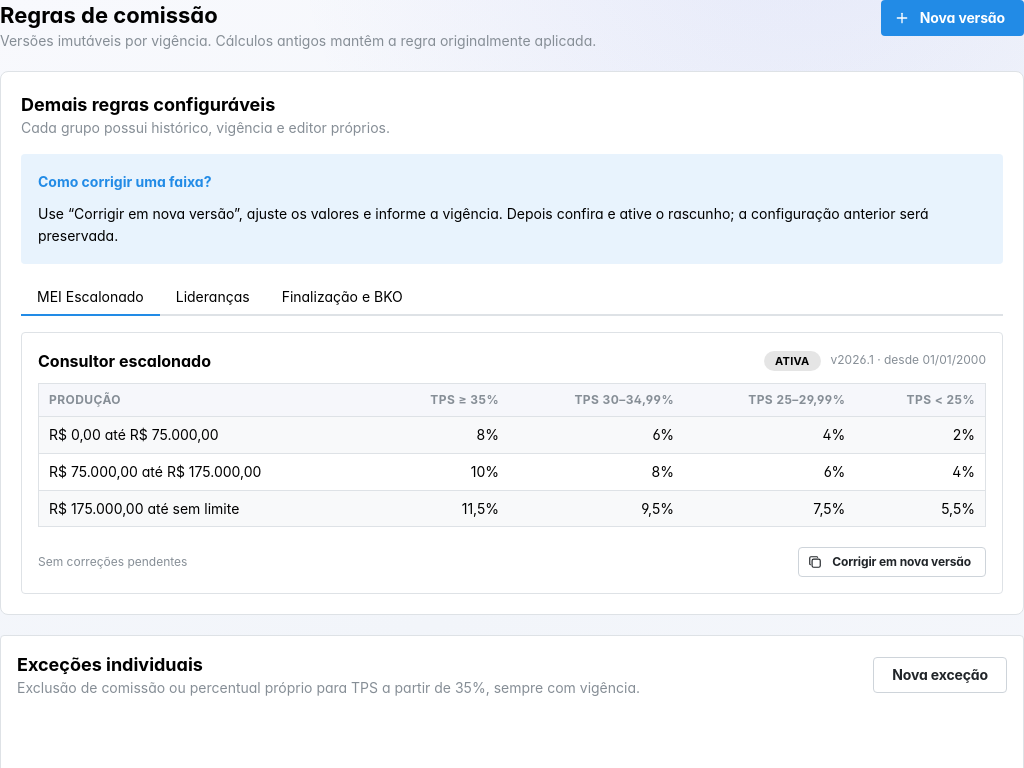
Test: CommissionRulesPage › copia a versão ativa para um novo rascunho editável
Click the button "Nova versão".
click(952, 18)  # box [881,0,1023,36]
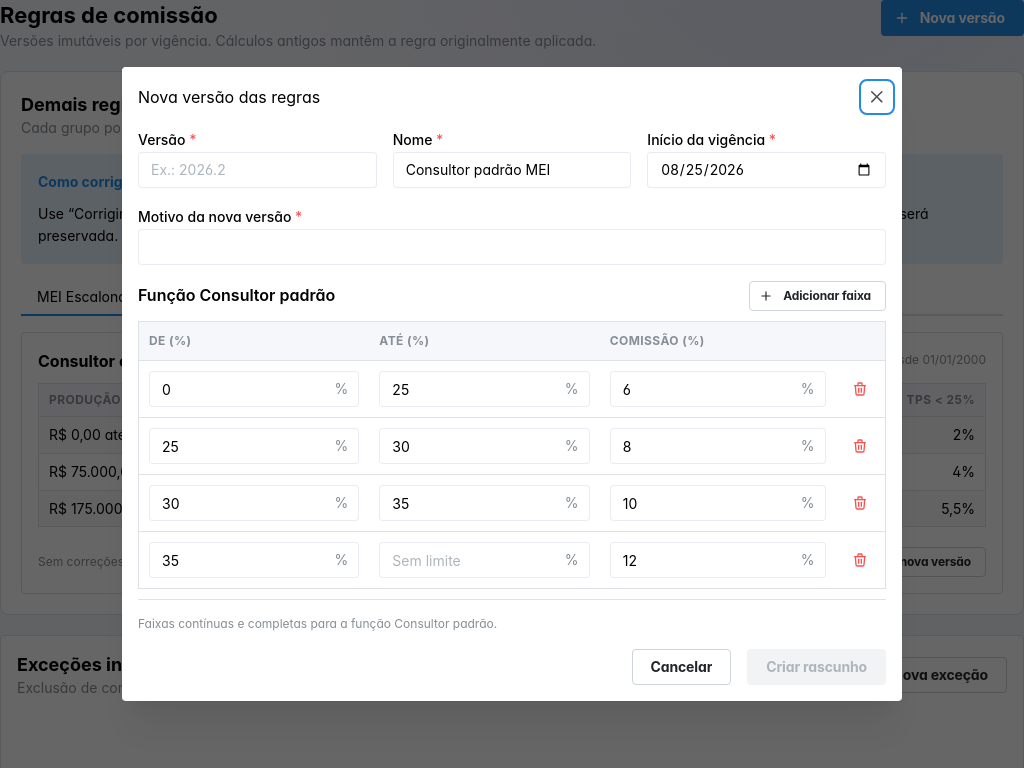
Expected: the dialog "Nova versão das regras" is shown
Expected: the number of fields named "TPS mínimo MEI" is 4, [149,371,359,407]; [149,428,359,464]; [149,485,359,521]; [149,542,359,578]
Expected: the button "Criar rascunho" is disabled, [747,649,886,685]
